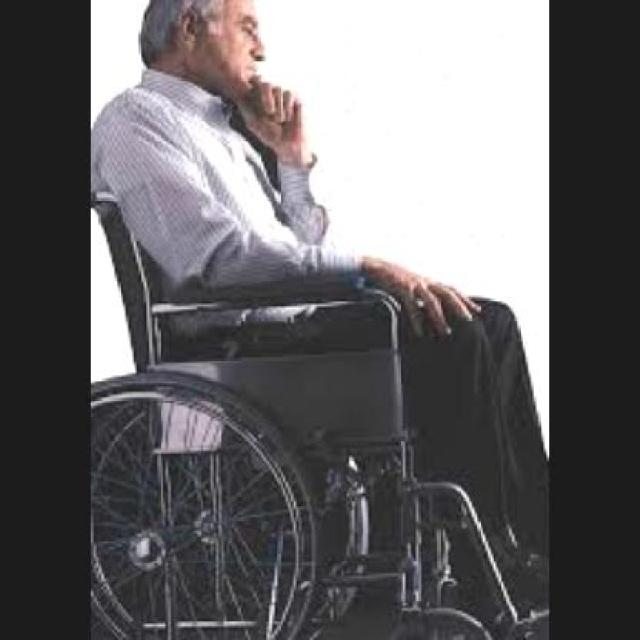wheelchairs: (92, 151, 546, 640)
